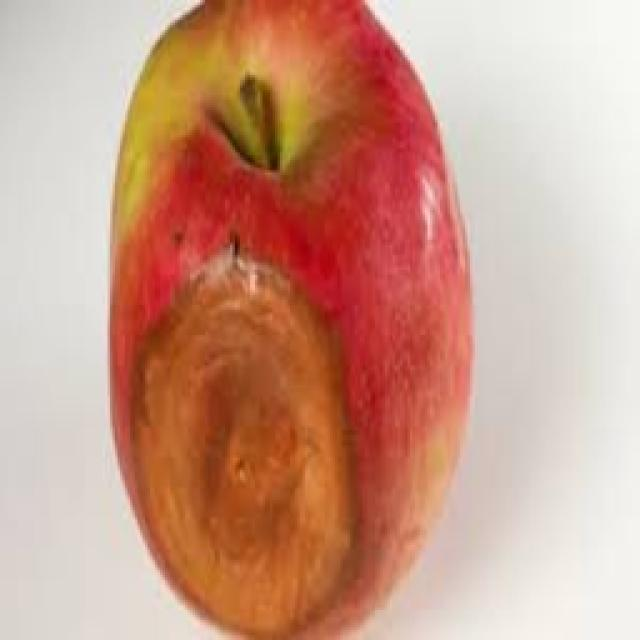Rotten_Apple: (79, 6, 508, 631)
